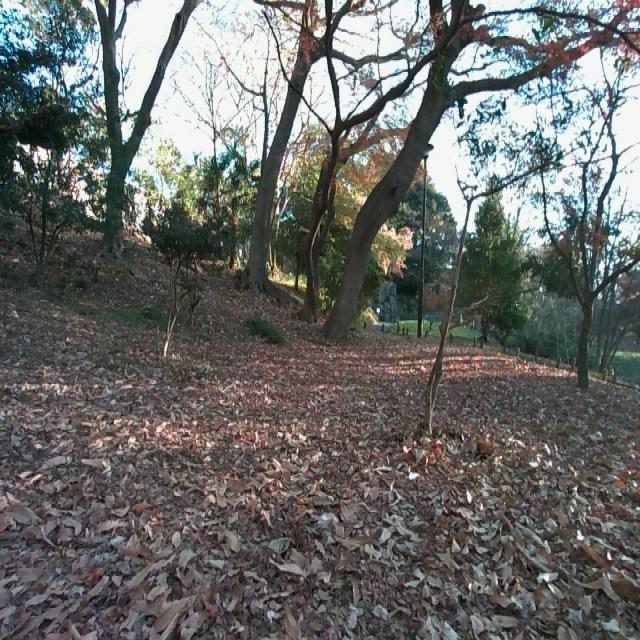bush: (145, 196, 227, 356)
tree: (315, 0, 481, 347), (55, 0, 220, 299), (291, 0, 403, 308), (538, 65, 640, 392), (414, 180, 485, 438)
